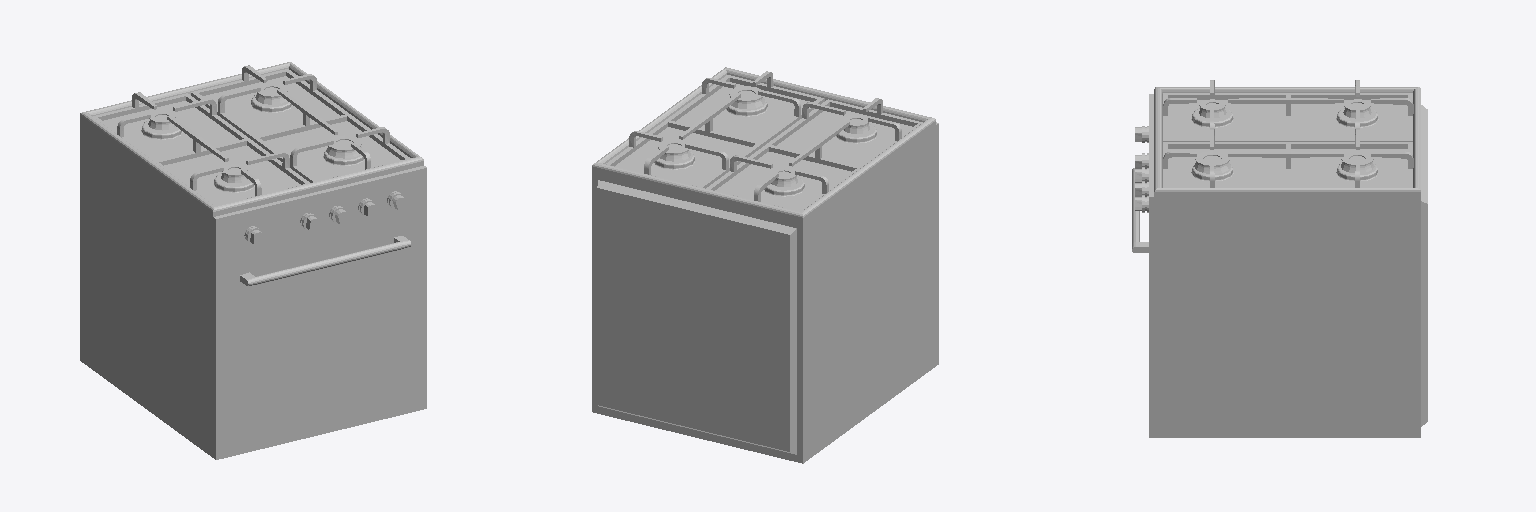
Rendered from LowPolyStove.obj.
3 renders of one model, left to right at view 1: azimuth 30°, elevation 25°; view 2: azimuth 150°, elevation 25°; view 3: azimuth 270°, elevation 25°, orthographic.
Visible parts, largest first — view 1: BakedStove; view 2: BakedStove; view 3: BakedStove.
Part boxes in pixels (left/top/right/bottom): BakedStove: left=80, top=62, right=426, bottom=459; BakedStove: left=592, top=67, right=938, bottom=463; BakedStove: left=1132, top=80, right=1427, bottom=437.
Bounding box in the file's own units: 1.83 × 2.16 × 2.23.